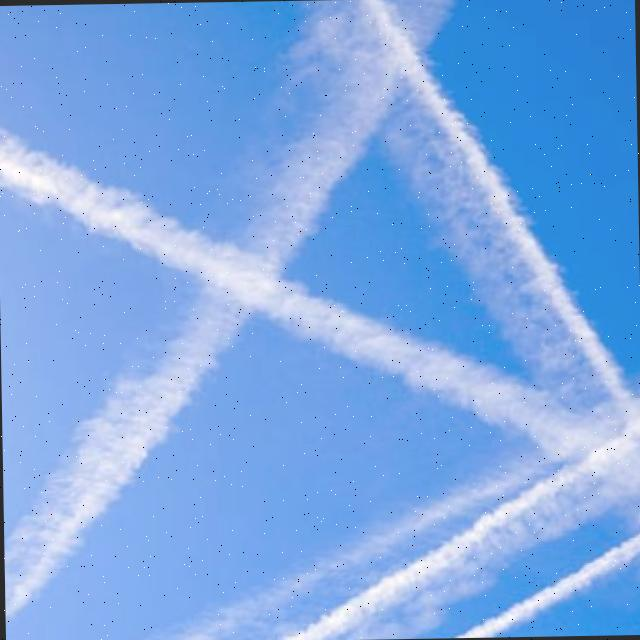Ct: (1, 1, 638, 638)
